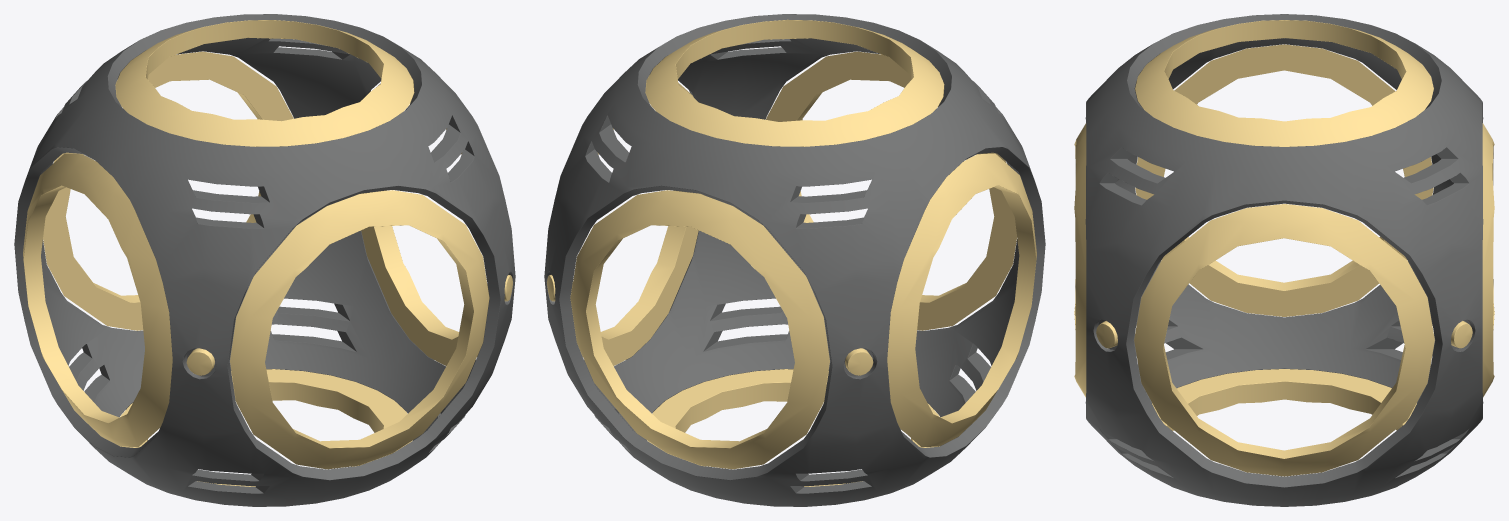
Rendered from Outer Shell Final_v2.fbx.
3 renders of one model, left to right at view 1: azimuth 30°, elevation 25°; view 2: azimuth 150°, elevation 25°; view 3: azimuth 270°, elevation 25°, orthographic.
Visible parts, largest first — view 1: Sphere.002, Slice.005, Slice.004, Slice.003; view 2: Sphere.002, Slice.005, Slice.004, Slice.003; view 3: Sphere.002, Slice.004, Slice.003, Slice.005.
Boxes of the visible parts, x1,y1,x2,y2 form: Sphere.002: (14,14,515,506); Slice.005: (43,51,489,469); Slice.004: (23,75,489,447); Slice.003: (115,20,414,486); Sphere.002: (544,14,1045,506); Slice.005: (570,51,1016,469); Slice.004: (570,75,1036,447); Slice.003: (645,19,944,486); Sphere.002: (1085,14,1483,506); Slice.004: (1134,44,1434,476); Slice.003: (1135,20,1433,430); Slice.005: (1074,123,1494,397).
Size of the model in its own units: 173 by 174 by 173.
Materials: 2 (2 with a texture image).
